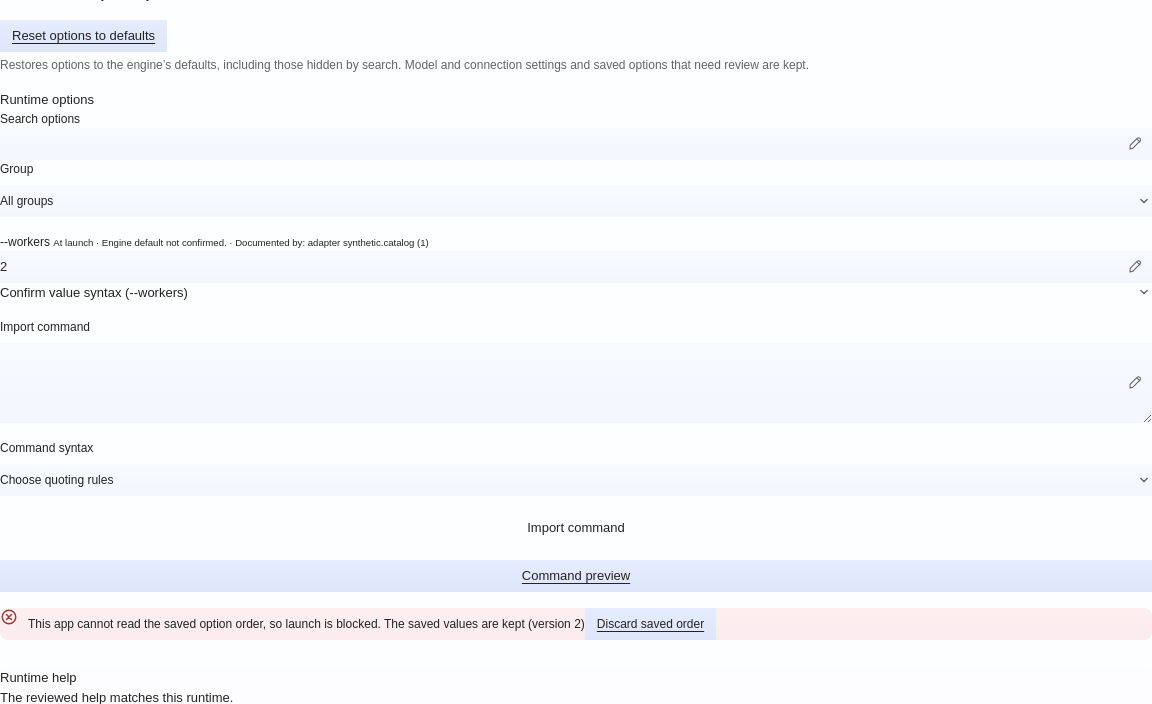
Test case: runtime-specific option controls › retains an unrecognized saved order record and asks for review before resetting
Click the button "Reset options to defaults".
click(84, 36)  # box x1=0 y1=20 x2=167 y2=52
(page scrolled)
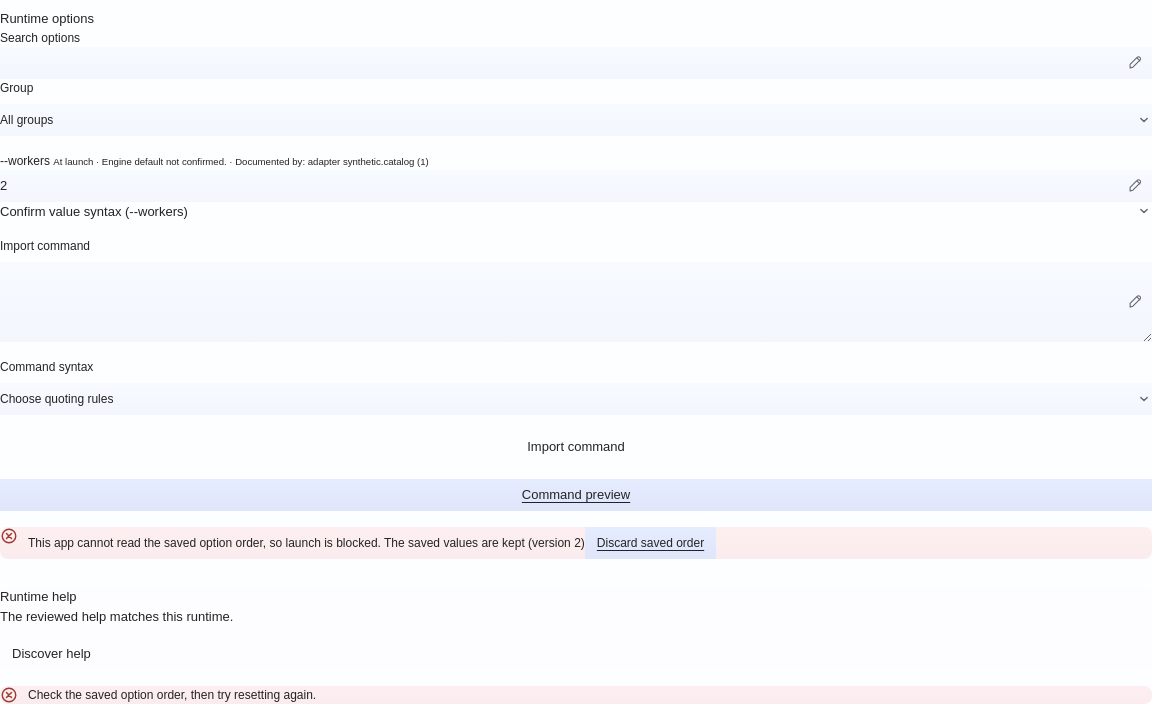
Check: the text "Check the saved option order, then try resetting again." is shown, box x1=28 y1=688 x2=316 y2=702
